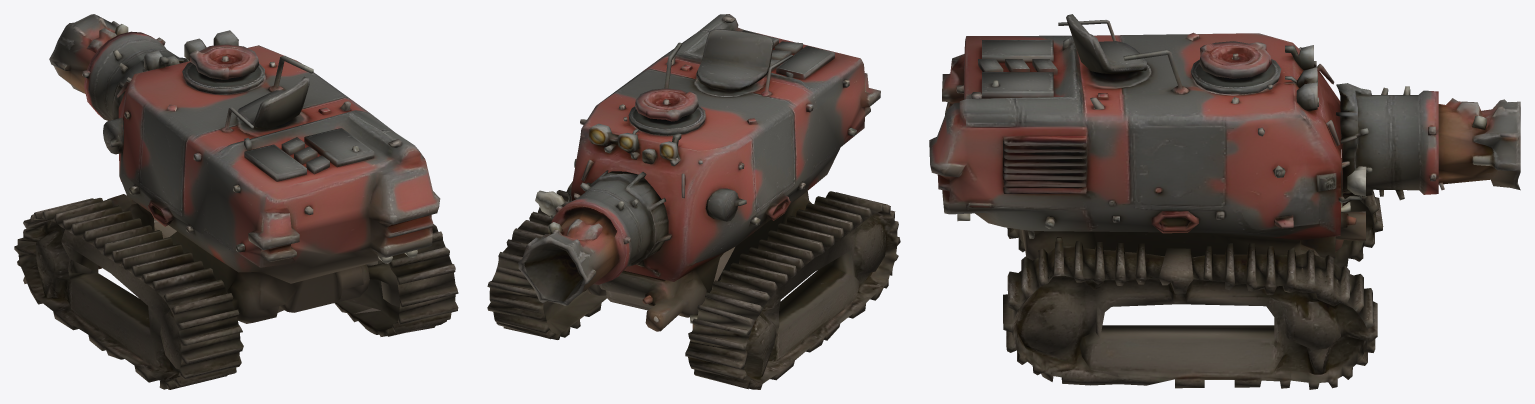
The model's file is s_crawler_lod1.fbx.
3 views of the same model, side by side, from view 1: azimuth 30°, elevation 25°; view 2: azimuth 150°, elevation 25°; view 3: azimuth 270°, elevation 25° (orthographic). The views are drawn at different scales.
Visible parts, largest first — view 1: s_crawler; view 2: s_crawler; view 3: s_crawler.
Part boxes in pixels (<box>): s_crawler: <box>14,14,458,389</box>; s_crawler: <box>487,14,900,389</box>; s_crawler: <box>929,14,1520,389</box>.
Size of the model in its own units: 1.48 by 1.38 by 2.5.
